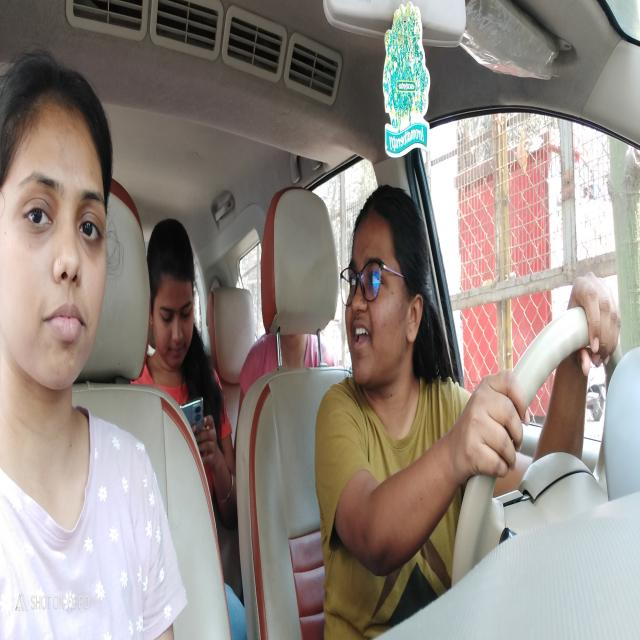LeftRight: (338, 185, 430, 390)
person: (2, 53, 114, 394), (147, 212, 200, 374)
talking: (350, 319, 372, 355)
